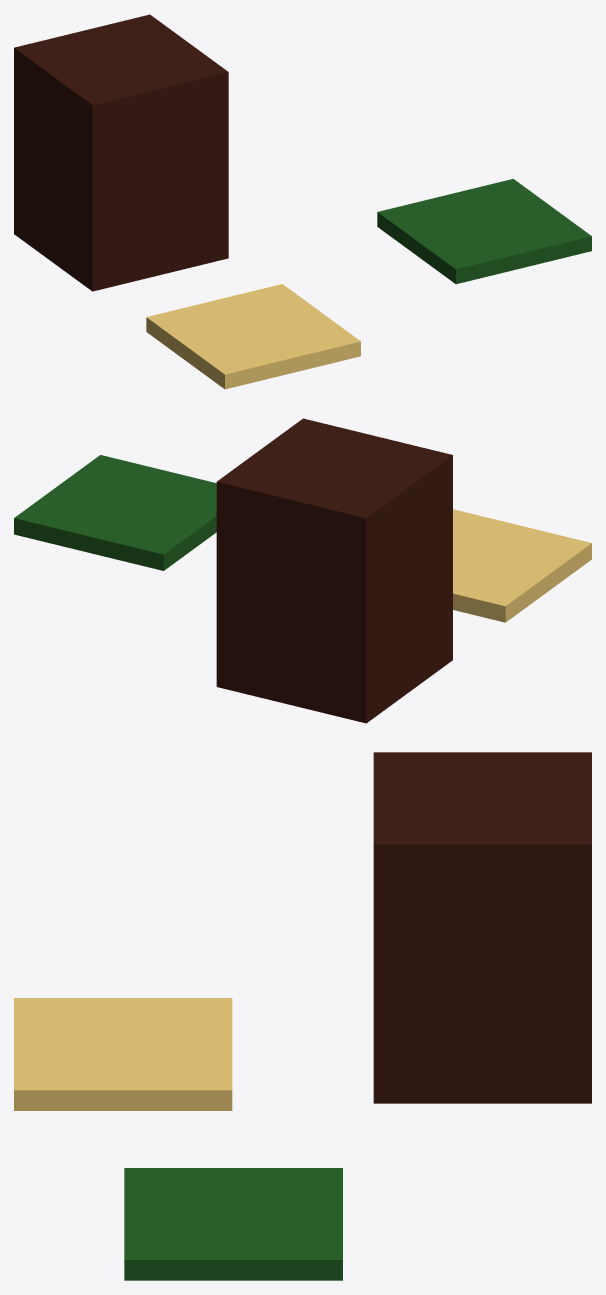
Rendered from tiles placeholder.glb.
3 renders of one model, top to bottom at view 1: azimuth 30°, elevation 25°; view 2: azimuth 150°, elevation 25°; view 3: azimuth 270°, elevation 25°, orthographic. The views are drawn at different scales.
Visible parts, largest first — view 1: Cube.001, Cube, Cube.002; view 2: Cube.001, Cube.002, Cube; view 3: Cube.001, Cube, Cube.002.
Boxes of the visible parts, box(x1,y1,x2,y2) form: Cube.001: box(14, 14, 228, 291); Cube: box(146, 284, 360, 389); Cube.002: box(377, 179, 591, 284); Cube.001: box(216, 418, 452, 723); Cube.002: box(14, 455, 216, 570); Cube: box(453, 509, 591, 622); Cube.001: box(373, 752, 591, 1103); Cube: box(14, 998, 232, 1110); Cube.002: box(124, 1168, 342, 1280).
Bounding box in the file's own units: 6.02 × 2.67 × 5.29.
